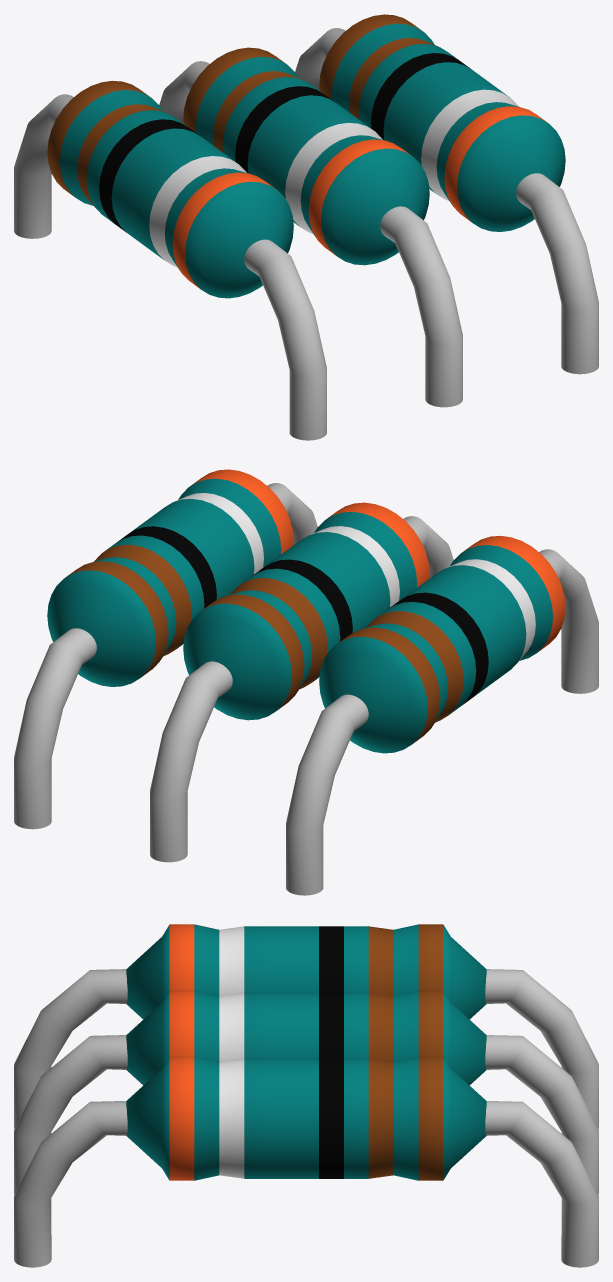
Rendered from Resistor1x1.fbx.
3 renders of one model, top to bottom at view 1: azimuth 30°, elevation 25°; view 2: azimuth 150°, elevation 25°; view 3: azimuth 270°, elevation 25°, orthographic.
Parts seen in each view (by area): view 1: Resistor; view 2: Resistor; view 3: Resistor.
Boxes of the visible parts, x1,y1,x2,y2 form: Resistor: (14,14,598,440); Resistor: (14,469,598,895); Resistor: (14,924,598,1267).
Size of the model in its own units: 70 by 34.98 by 93.79.
